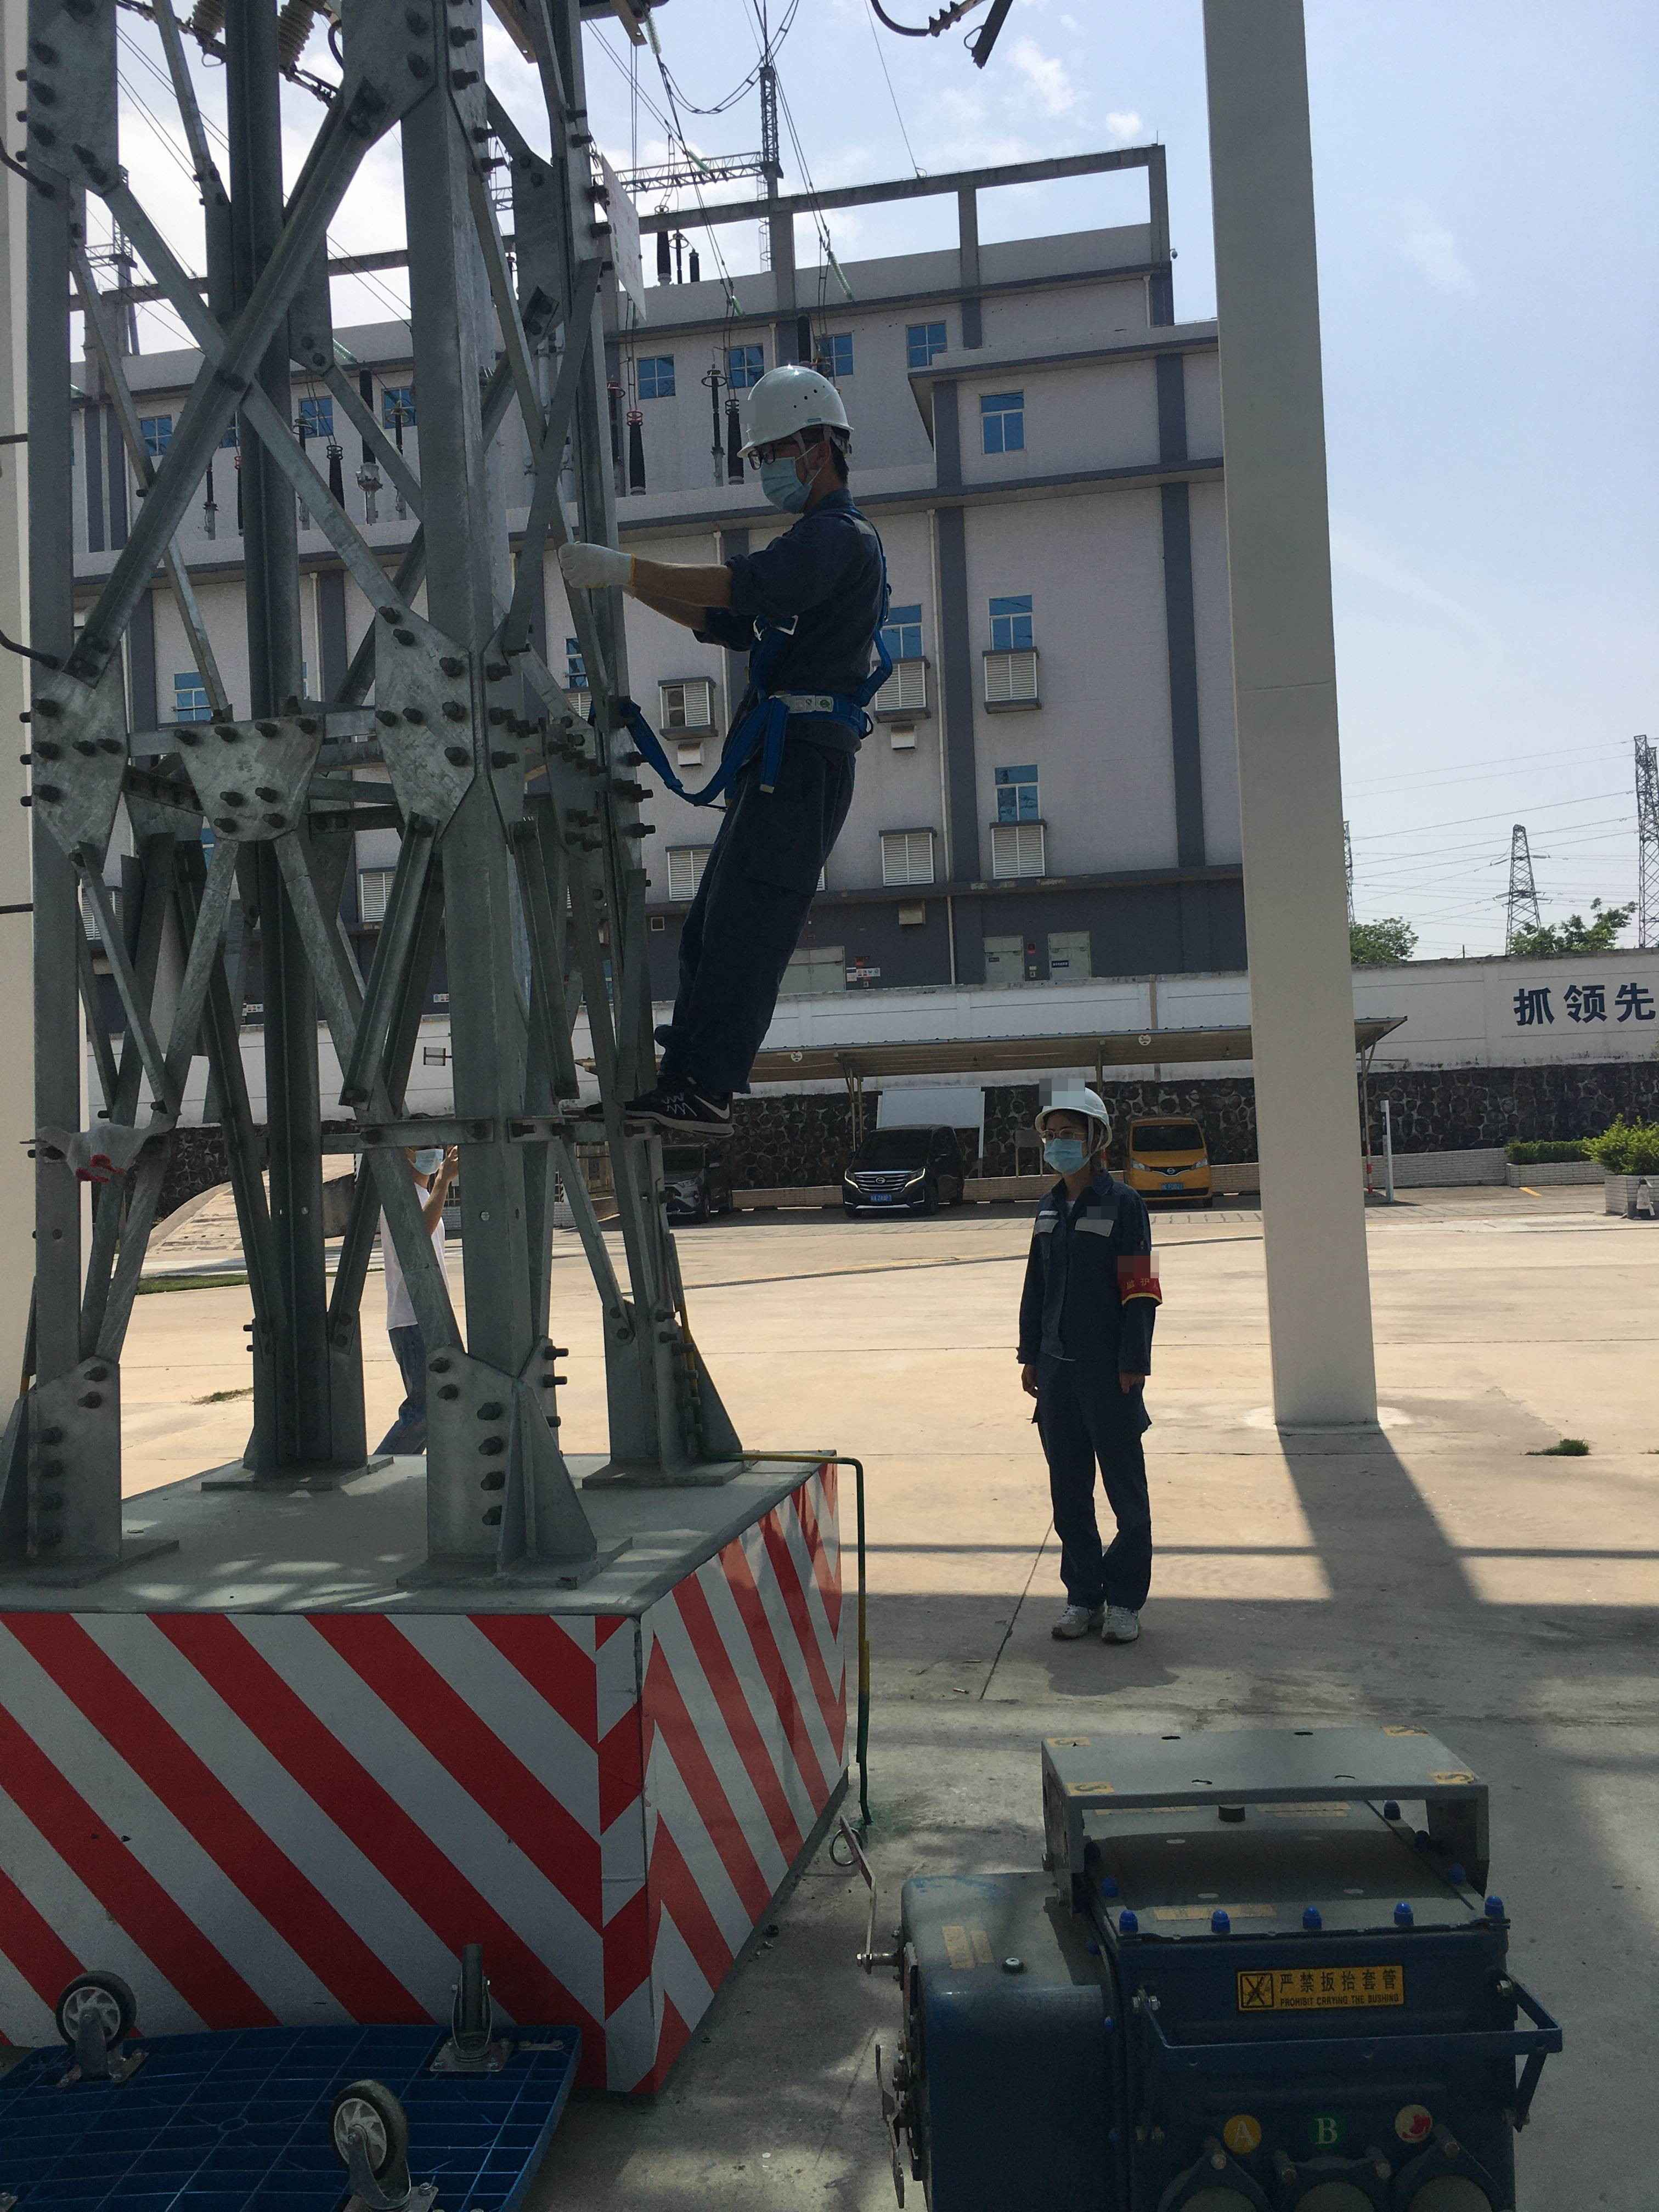downsuit: (660, 744, 861, 1090), (1033, 1393, 1155, 1606)
upsuit: (706, 500, 899, 730), (1011, 1174, 1169, 1381)
wrongtop: (627, 550, 751, 648)
